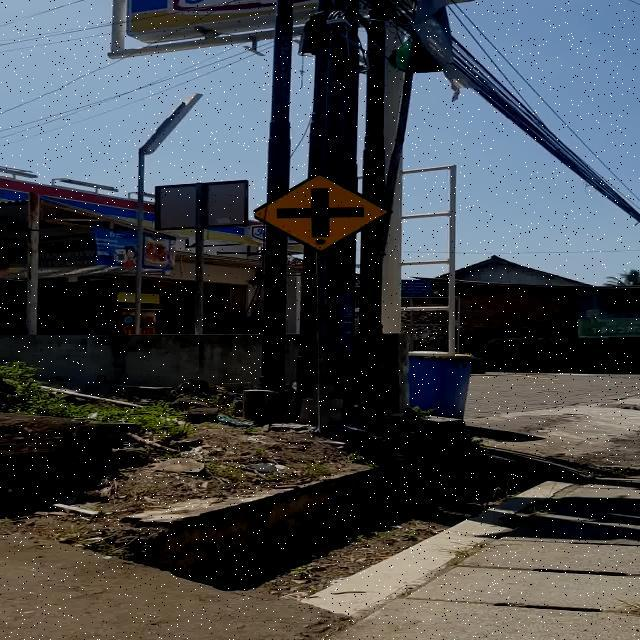Persimpangan 4: (254, 173, 392, 253)
